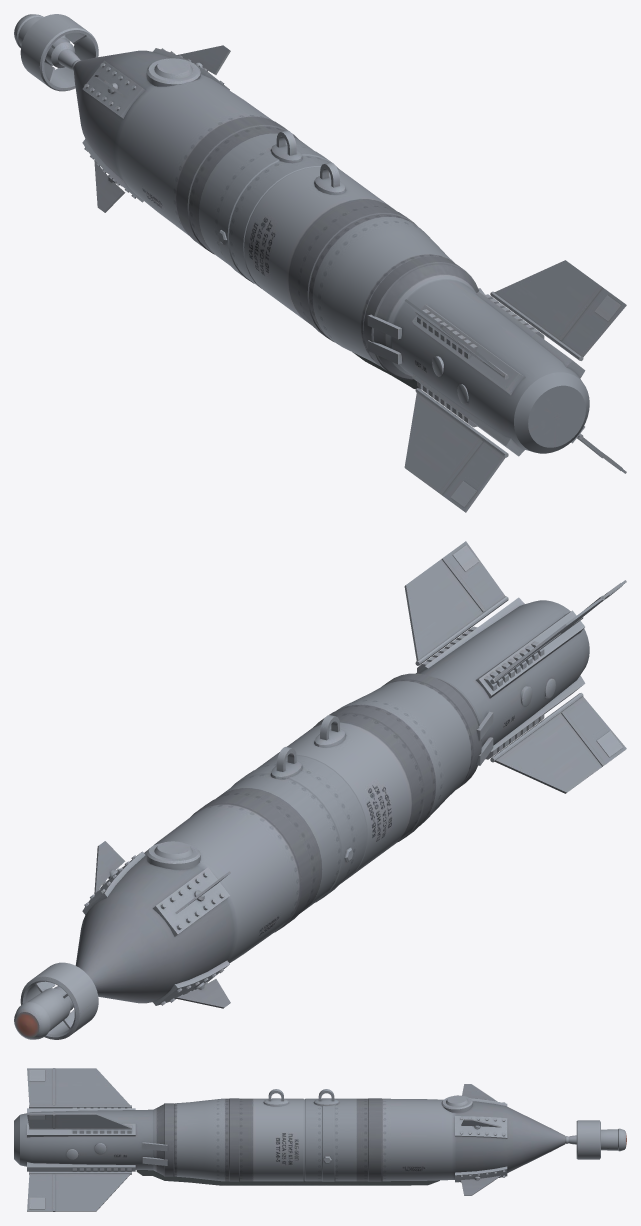
The model's file is w_kab500l.glb.
3 renders of one model, top to bottom at view 1: azimuth 30°, elevation 25°; view 2: azimuth 150°, elevation 25°; view 3: azimuth 270°, elevation 25°, orthographic. The views are drawn at different scales.
Parts seen in each view (by area): view 1: body|K5L_body, body|K5L_steel; view 2: body|K5L_body, body|K5L_steel; view 3: body|K5L_body, body|K5L_steel, body|K5L_dark.
Part boxes in pixels (x1=…): body|K5L_body: x1=73, y1=45, x2=626, y2=512; body|K5L_steel: x1=14, y1=14, x2=622, y2=507; body|K5L_body: x1=75, y1=541, x2=626, y2=1008; body|K5L_steel: x1=14, y1=545, x2=622, y2=1039; body|K5L_body: x1=14, y1=1068, x2=565, y2=1211; body|K5L_steel: x1=27, y1=1070, x2=626, y2=1209; body|K5L_dark: x1=136, y1=1170, x2=439, y2=1185.
Bounding box in the file's own units: 0.5438 × 0.5469 × 3.05.
Materials: 3 (3 with a texture image).
